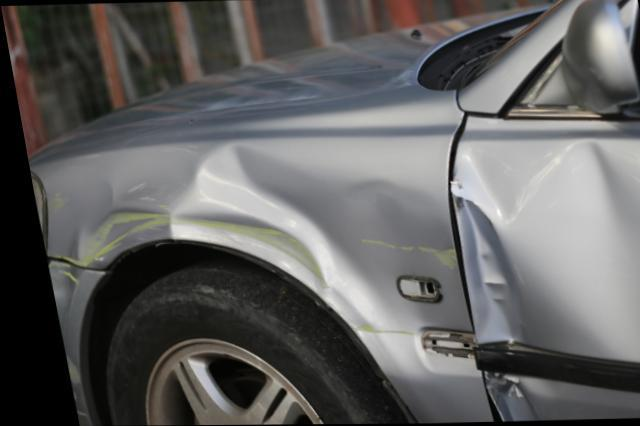dent: (55, 140, 455, 376), (443, 137, 640, 363), (471, 372, 548, 422)
